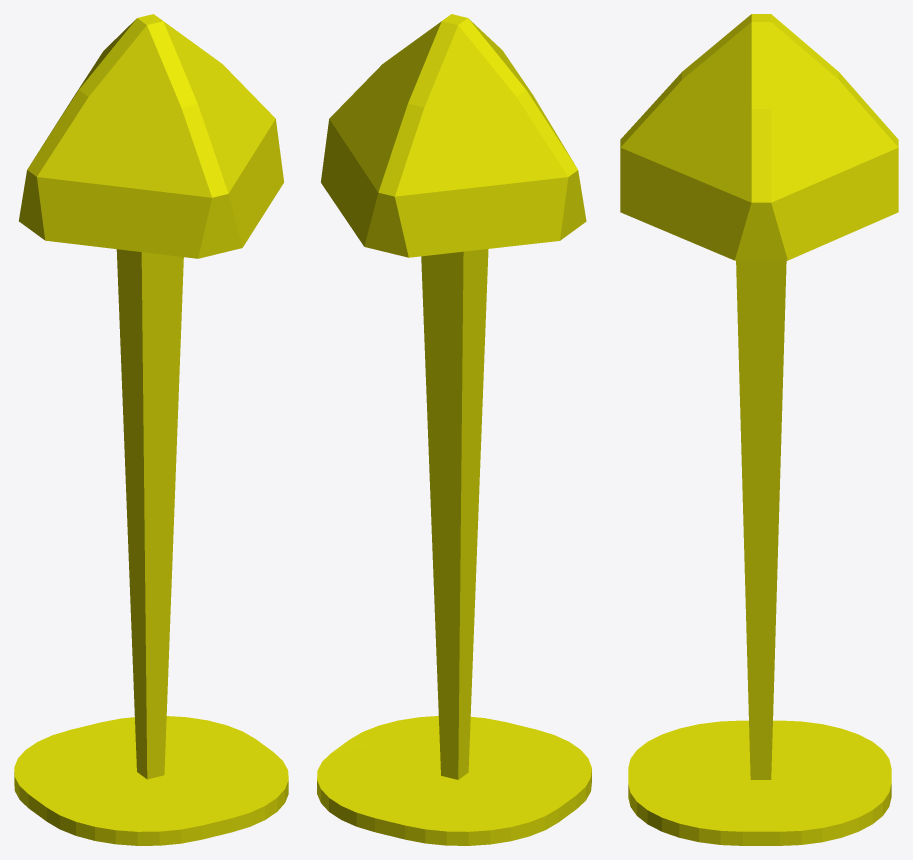
Rendered from lamptallEnvironmental.fbx.
3 views of the same model, side by side, from view 1: azimuth 30°, elevation 25°; view 2: azimuth 150°, elevation 25°; view 3: azimuth 270°, elevation 25° (orthographic).
Parts seen in each view (by area): view 1: Cube; view 2: Cube; view 3: Cube.
Part boxes in pixels (x1,y1,x2,y2): Cube: [14, 14, 288, 845]; Cube: [317, 14, 591, 845]; Cube: [620, 14, 898, 845].
Bounding box in the file's own units: 720 × 2211 × 722.
